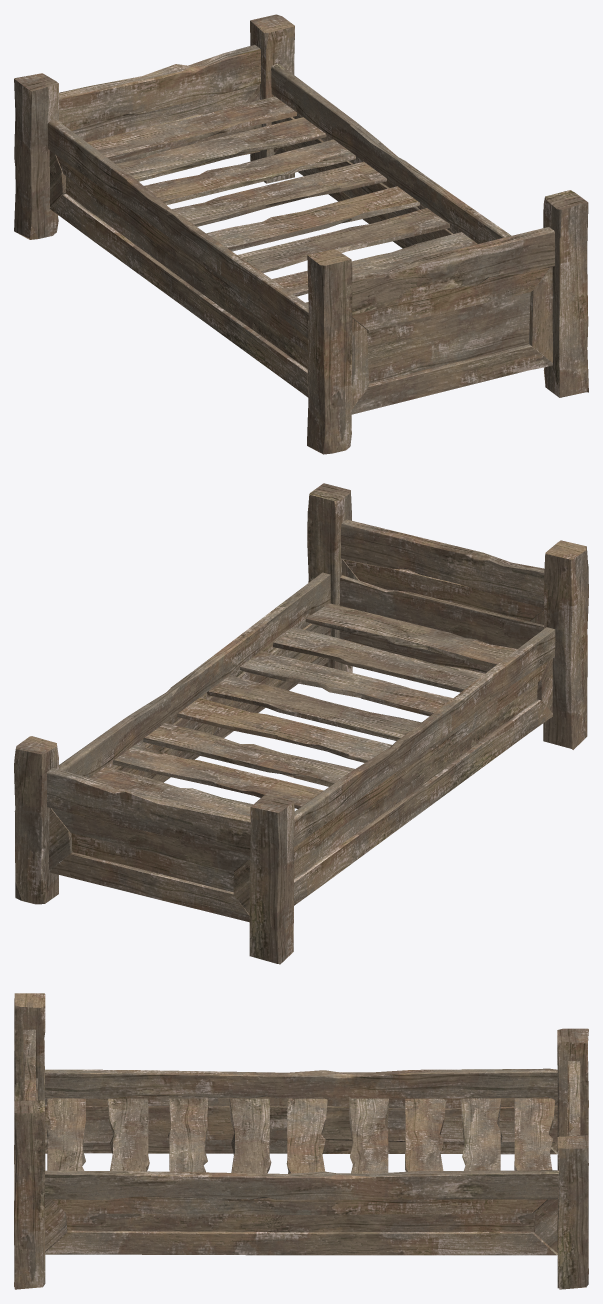
File: SM_Bed_01.fbx
3 views of the same model, one above another, from view 1: azimuth 30°, elevation 25°; view 2: azimuth 150°, elevation 25°; view 3: azimuth 270°, elevation 25° (orthographic). The views are drawn at different scales.
Parts seen in each view (by area): view 1: SM_Bed_01_LOD0; view 2: SM_Bed_01_LOD0; view 3: SM_Bed_01_LOD0.
Boxes of the visible parts, bbox=[...] form: SM_Bed_01_LOD0: bbox=[14, 14, 588, 454]; SM_Bed_01_LOD0: bbox=[14, 483, 588, 964]; SM_Bed_01_LOD0: bbox=[14, 993, 588, 1289].
Size of the model in its own units: 133 by 269 by 91.4.
